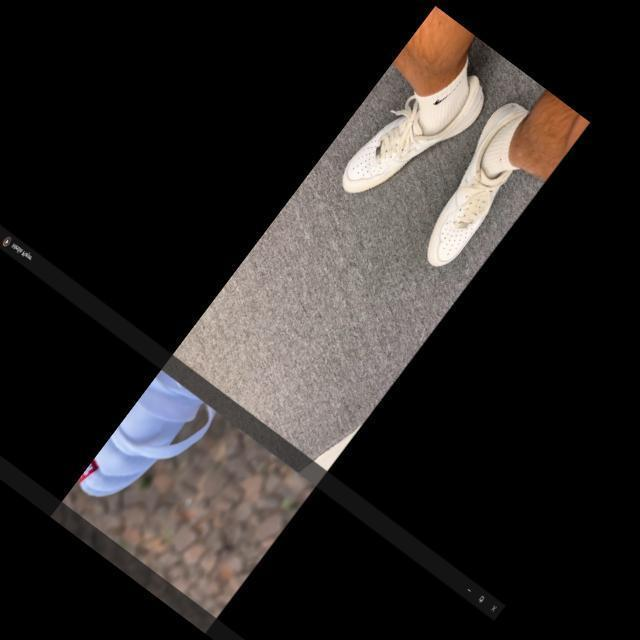nike original air force: (333, 46, 497, 229), (397, 95, 554, 276)
